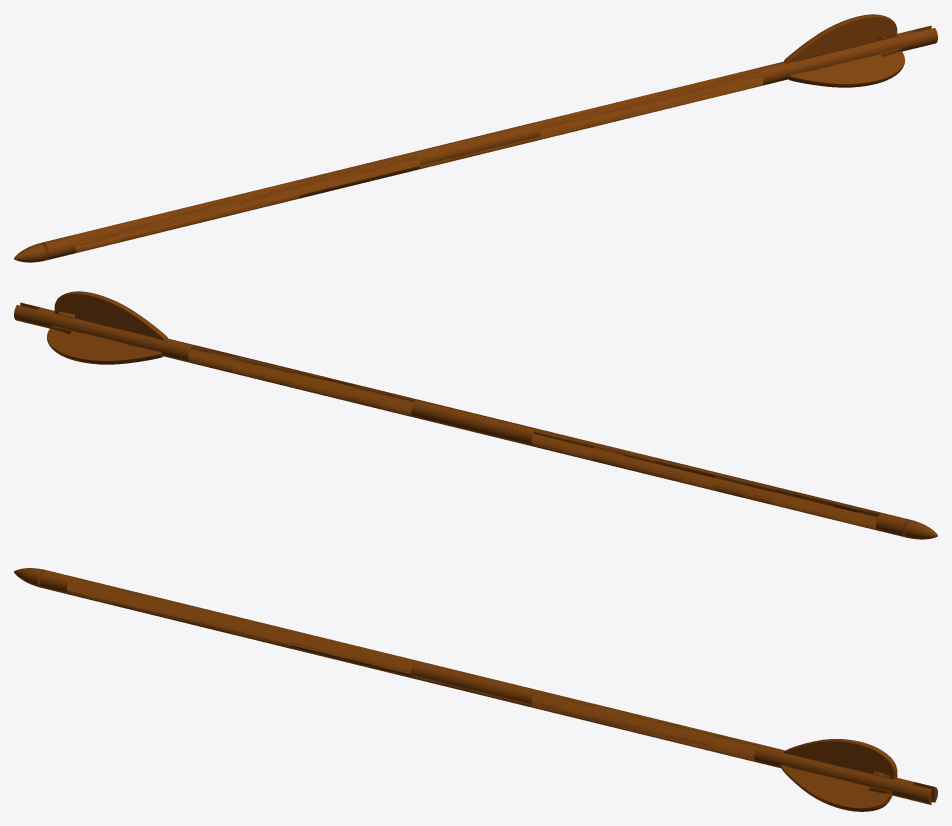
Rendered from arrow.fbx.
The picture shows the model from 3 angles, top to bottom: view 1: azimuth 30°, elevation 25°; view 2: azimuth 150°, elevation 25°; view 3: azimuth 330°, elevation 25°; orthographic projection.
Visible parts, largest first — view 1: 15578_Competition_Arrow_v1; view 2: 15578_Competition_Arrow_v1; view 3: 15578_Competition_Arrow_v1.
Part boxes in pixels (box(x1,y1,x2,y2)): 15578_Competition_Arrow_v1: box(14, 14, 937, 262); 15578_Competition_Arrow_v1: box(14, 291, 937, 539); 15578_Competition_Arrow_v1: box(14, 568, 937, 811).
Bounding box in the file's own units: 1769 × 102 × 117.
